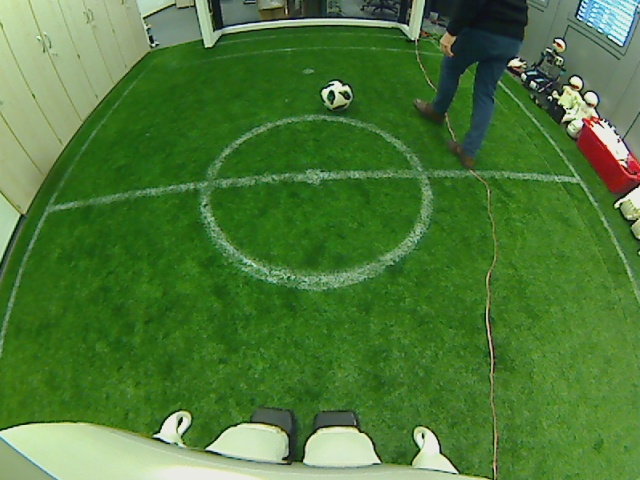ball: (318, 78, 353, 110)
